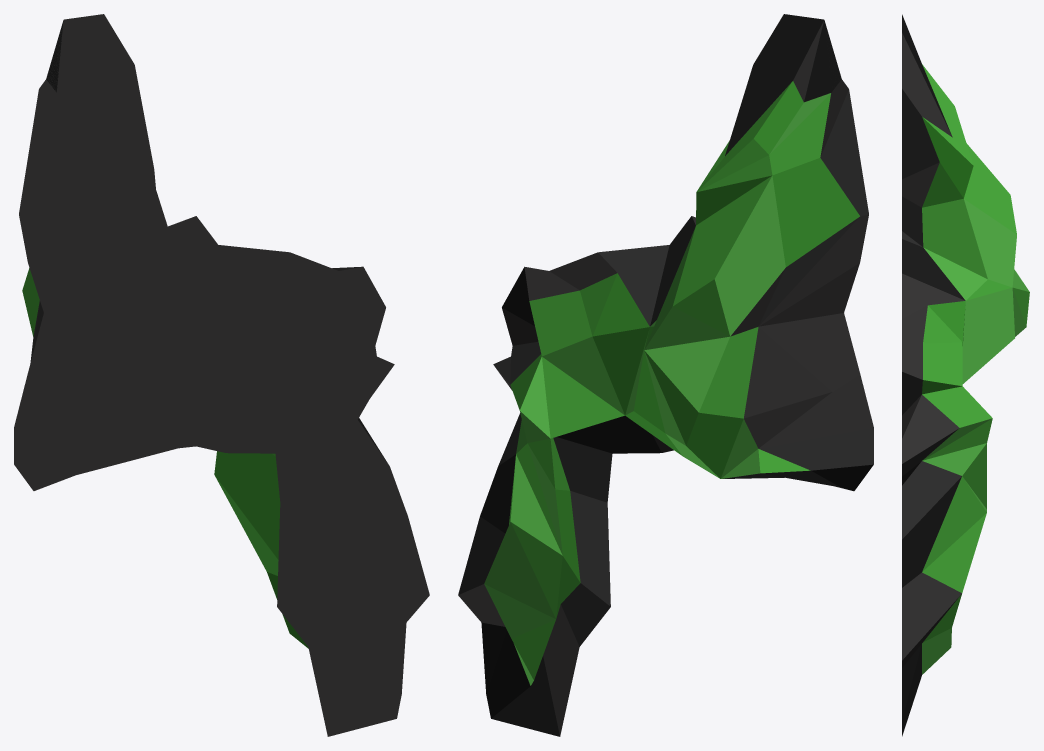
Rendered from fv_middle_mountain_1.fbx.
The picture shows the model from 3 angles, left to right: view 1: azimuth 30°, elevation 25°; view 2: azimuth 150°, elevation 25°; view 3: azimuth 270°, elevation 25°; orthographic projection. The views are drawn at different scales.
Visible parts, largest first — view 1: desert_middle_mountain_1.001; view 2: desert_middle_mountain_1.001; view 3: desert_middle_mountain_1.001.
Part boxes in pixels (bbox=[...]): desert_middle_mountain_1.001: bbox=[14, 14, 429, 736]; desert_middle_mountain_1.001: bbox=[458, 14, 873, 736]; desert_middle_mountain_1.001: bbox=[902, 14, 1029, 736].
Size of the model in its own units: 586 by 1054 by 204.
